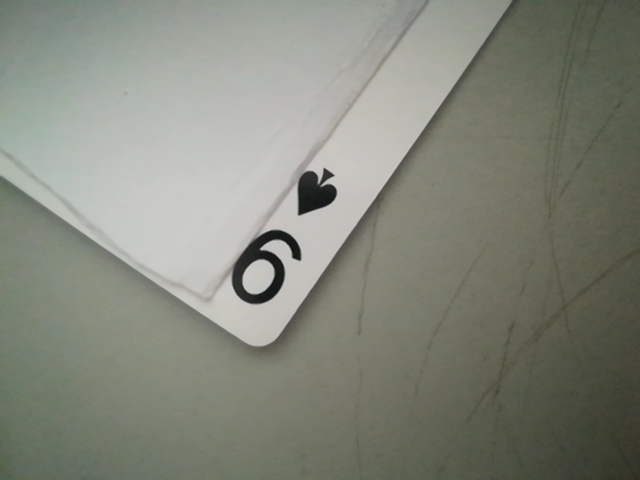ht 9: (212, 160, 346, 332)
